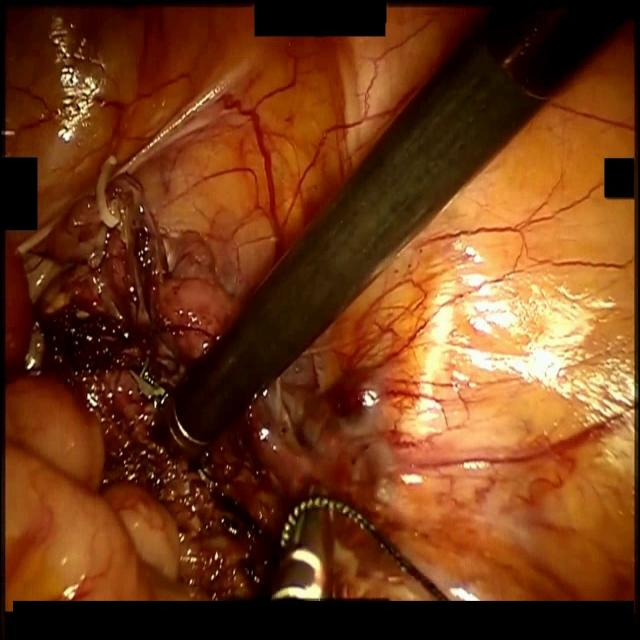surgical-area: (0, 0, 634, 599)
surgical-tool: (153, 0, 634, 460), (268, 480, 333, 597)
